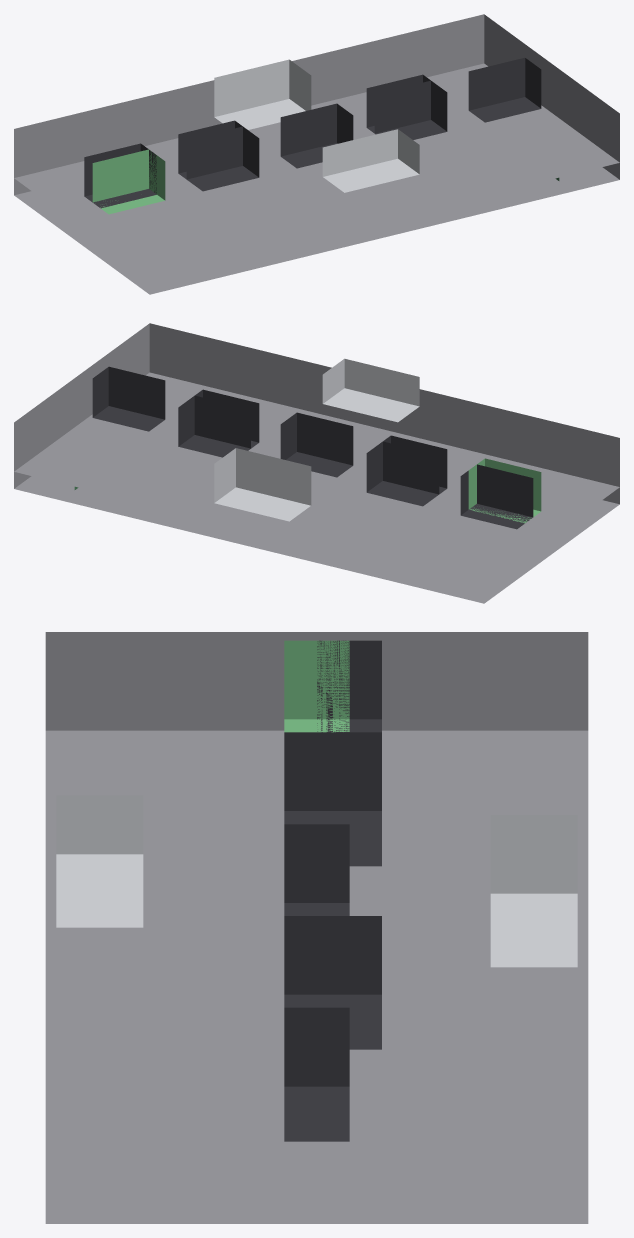
File: control_panel.gltf
3 renders of one model, top to bottom at view 1: azimuth 30°, elevation 25°; view 2: azimuth 150°, elevation 25°; view 3: azimuth 270°, elevation 25°, orthographic. The views are drawn at different scales.
Parts seen in each view (by area): view 1: control_panel; view 2: control_panel; view 3: control_panel.
Part boxes in pixels (<box>): control_panel: <box>14,14,619,294</box>; control_panel: <box>14,323,619,603</box>; control_panel: <box>45,632,588,1223</box>.
Size of the model in its own units: 0.1 by 0.018 by 0.05.
